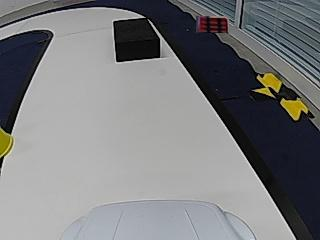block: (113, 18, 160, 61)
cone: (0, 128, 13, 157)
